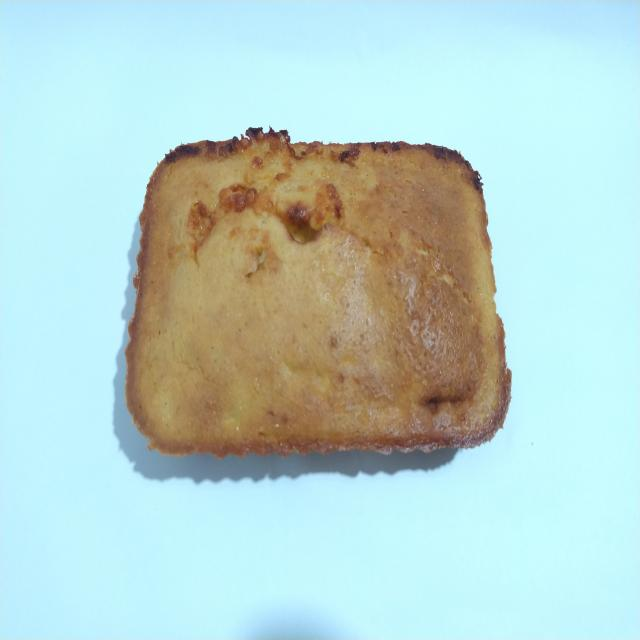Sopa: (118, 119, 520, 478)
